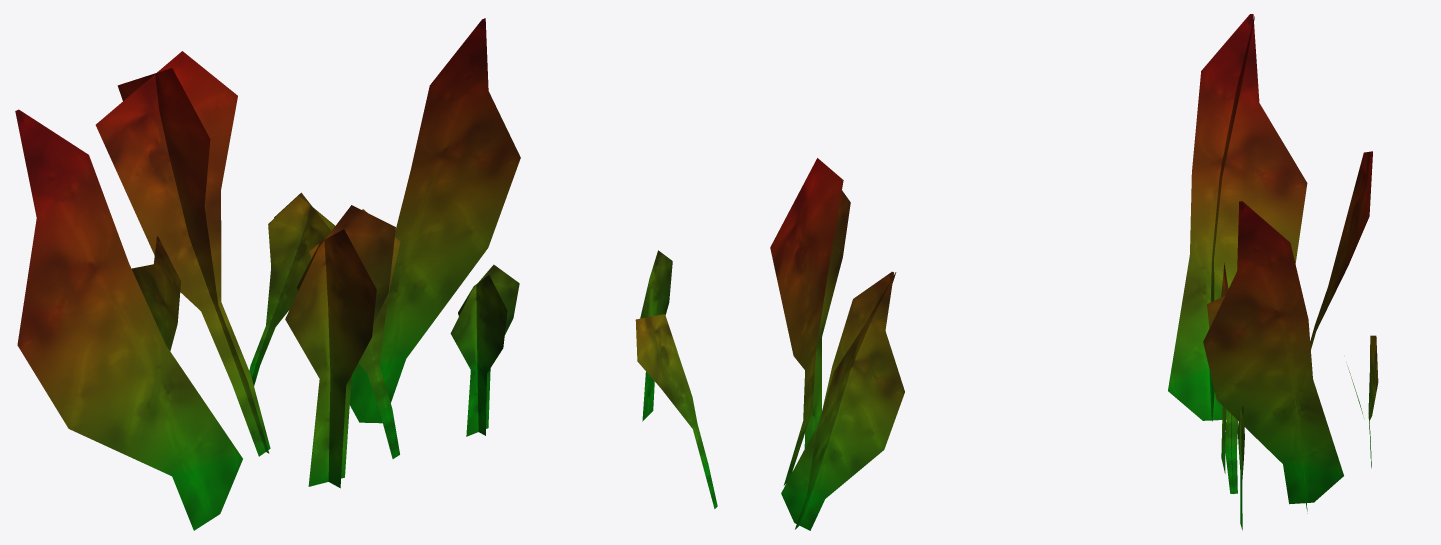
File: White Everlasting_LOD1_Var12_ucvobbbia.glb
The picture shows the model from 3 angles, left to right: view 1: azimuth 30°, elevation 25°; view 2: azimuth 150°, elevation 25°; view 3: azimuth 270°, elevation 25°; orthographic projection. The views are drawn at different scales.
Visible parts, largest first — view 1: _4cdf_Var12_LOD1; view 2: _4cdf_Var12_LOD1; view 3: _4cdf_Var12_LOD1.
Boxes of the visible parts, box(x1,y1,x2,y2) form: _4cdf_Var12_LOD1: box(15, 18, 520, 530); _4cdf_Var12_LOD1: box(635, 158, 904, 530); _4cdf_Var12_LOD1: box(1168, 14, 1378, 530).
Size of the model in its own units: 0.1542 by 0.1164 by 0.0829.
Materials: 1 (1 with a texture image).
